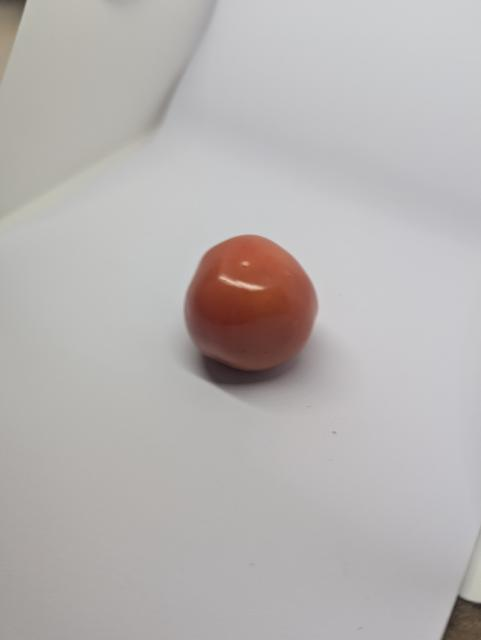red: (165, 227, 341, 395)
